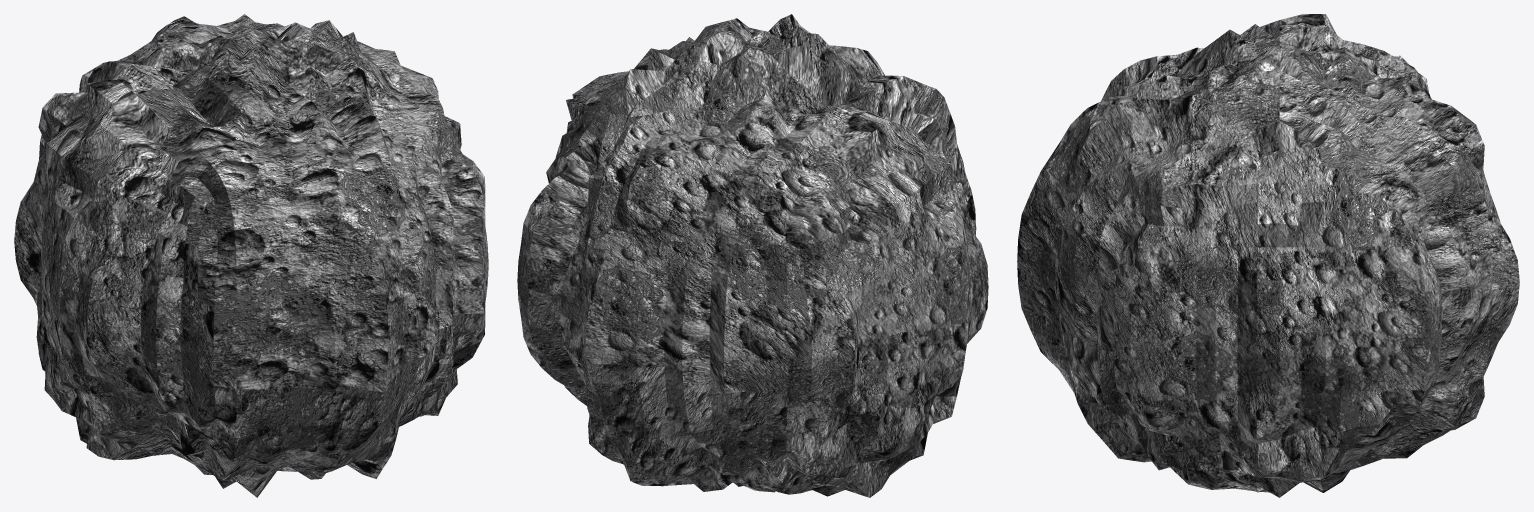
File: asteroid138.obj
3 renders of one model, left to right at view 1: azimuth 30°, elevation 25°; view 2: azimuth 150°, elevation 25°; view 3: azimuth 270°, elevation 25°, orthographic.
Visible parts, largest first — view 1: Cube_Cube.002; view 2: Cube_Cube.002; view 3: Cube_Cube.002.
Part boxes in pixels (box(x1,y1,x2,y2)): Cube_Cube.002: box(14, 14, 488, 497); Cube_Cube.002: box(517, 14, 988, 497); Cube_Cube.002: box(1017, 14, 1519, 497).
Bounding box in the file's own units: 1.74 × 1.84 × 1.89.
